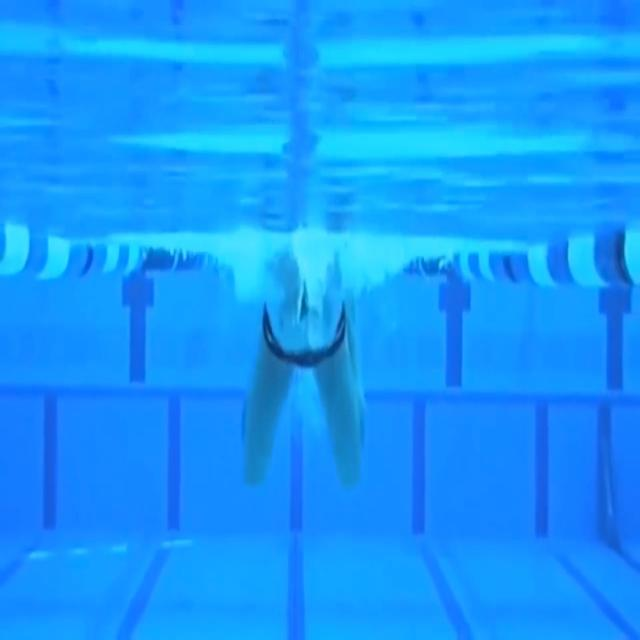Swimming: (240, 247, 374, 488)
